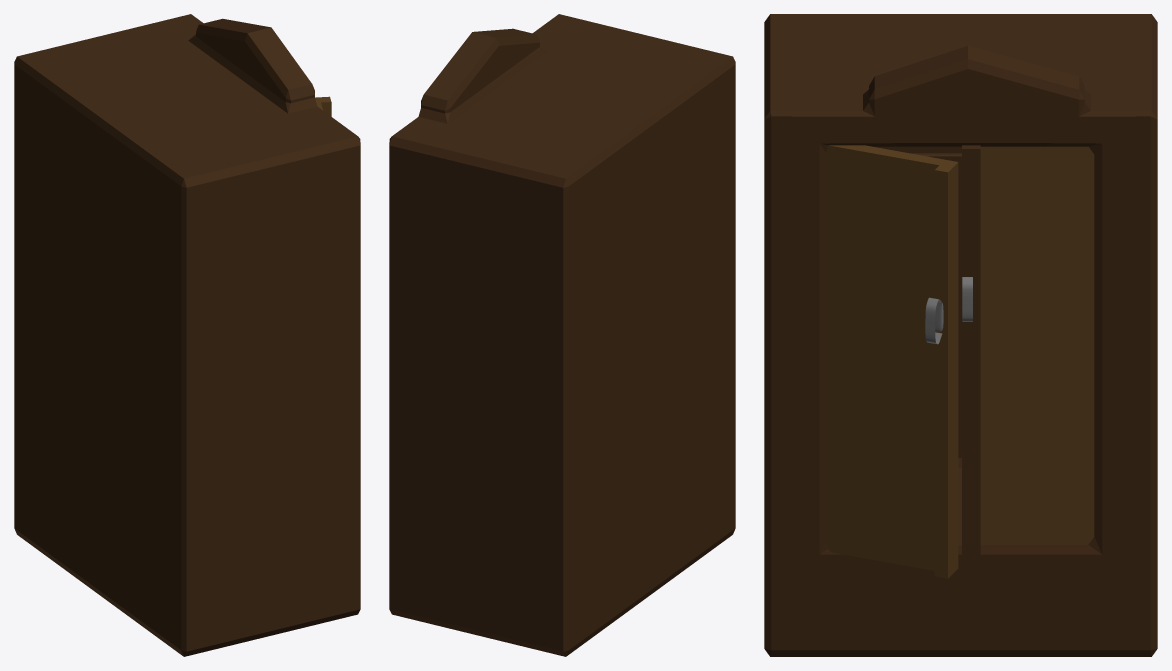
The model's file is wardrobe.fbx.
The picture shows the model from 3 angles, left to right: view 1: azimuth 30°, elevation 25°; view 2: azimuth 150°, elevation 25°; view 3: azimuth 270°, elevation 25°; orthographic projection. The views are drawn at different scales.
Parts seen in each view (by area): view 1: Cube; view 2: Cube; view 3: Cube, Cube.002, Cube.003, Cube.005.
Part boxes in pixels (box(x1,y1,x2,y2)): Cube: box(14, 14, 360, 656); Cube: box(389, 14, 735, 656); Cube: box(764, 14, 1157, 656); Cube.002: box(826, 145, 958, 578); Cube.003: box(962, 145, 1094, 555); Cube.005: box(925, 297, 943, 344).
Bounding box in the file's own units: 269 × 558 × 333.
